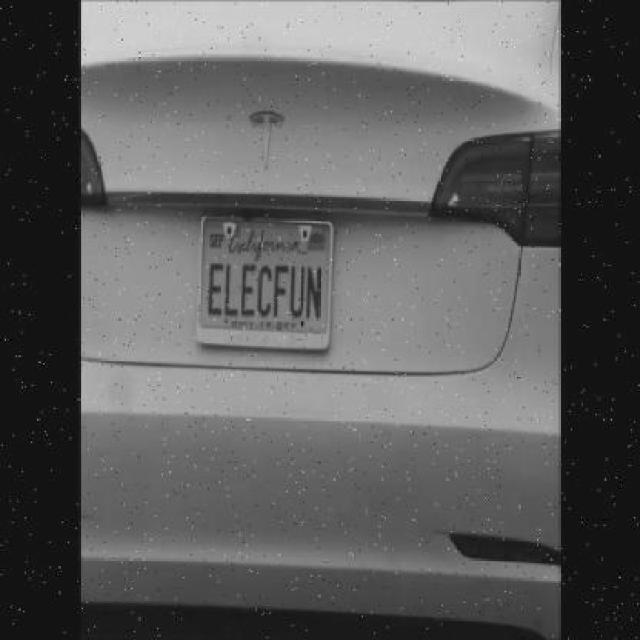licenseplate: (192, 194, 337, 360)
